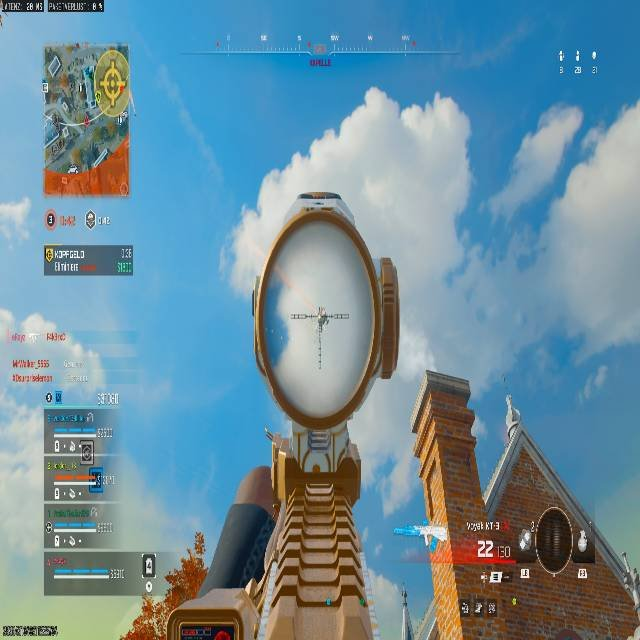head: (221, 81, 481, 432)
player: (162, 83, 612, 640)
